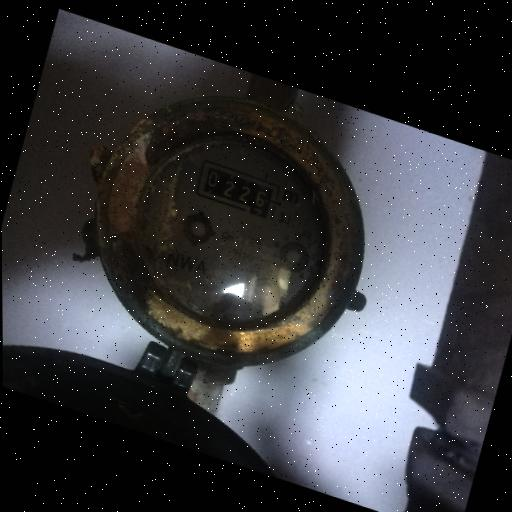0: (203, 166, 225, 195)
2: (217, 171, 241, 202), (233, 177, 256, 208)
6: (249, 183, 274, 219)
border_water_meter_number: (194, 158, 282, 222)
